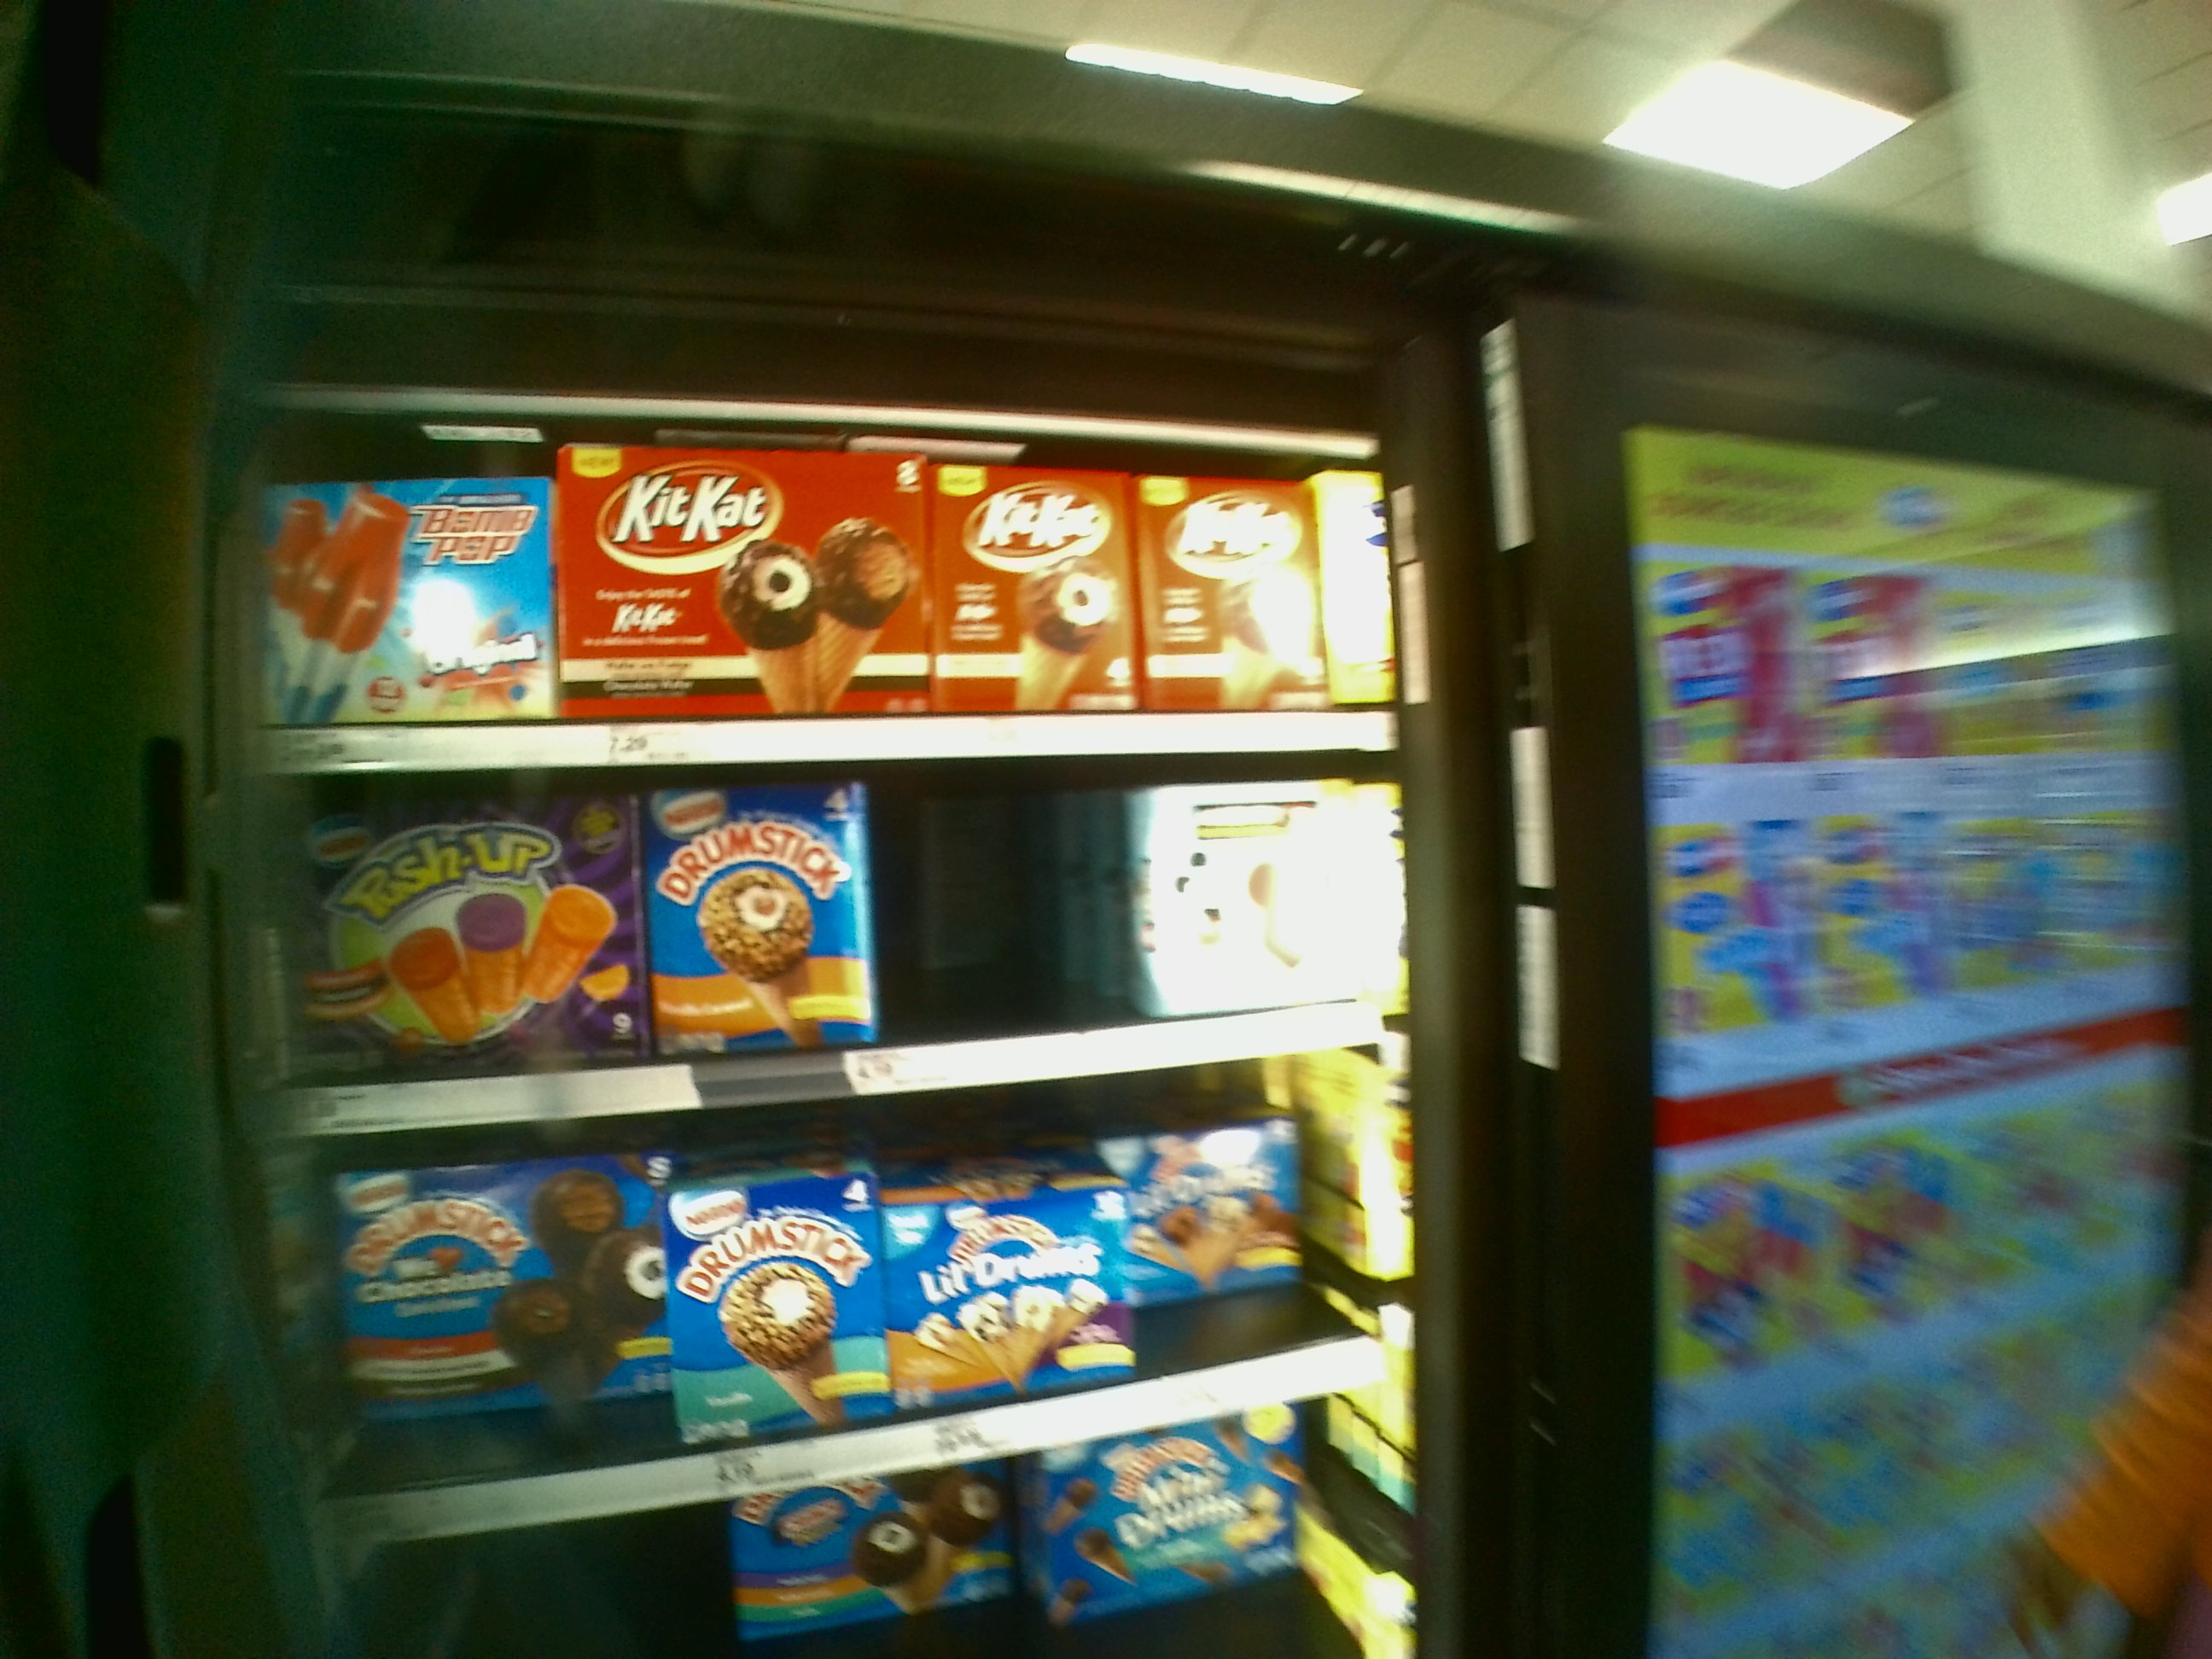shelf: (277, 1075, 1420, 1448), (237, 411, 1390, 774), (256, 765, 1420, 1105)
